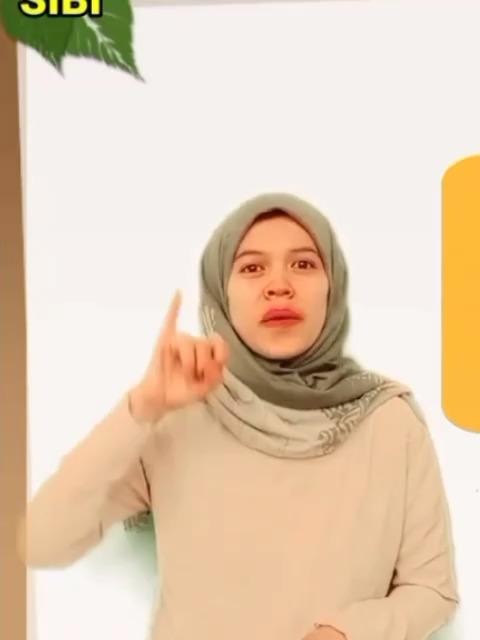I: (144, 289, 232, 407)
